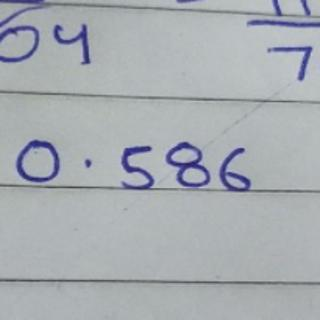.: (79, 153, 99, 171)
0: (15, 140, 62, 180), (1, 21, 43, 65)
4: (53, 19, 93, 64)
5: (119, 144, 156, 187)
6: (221, 144, 256, 192)
7: (266, 44, 315, 81)
8: (161, 142, 210, 187)
